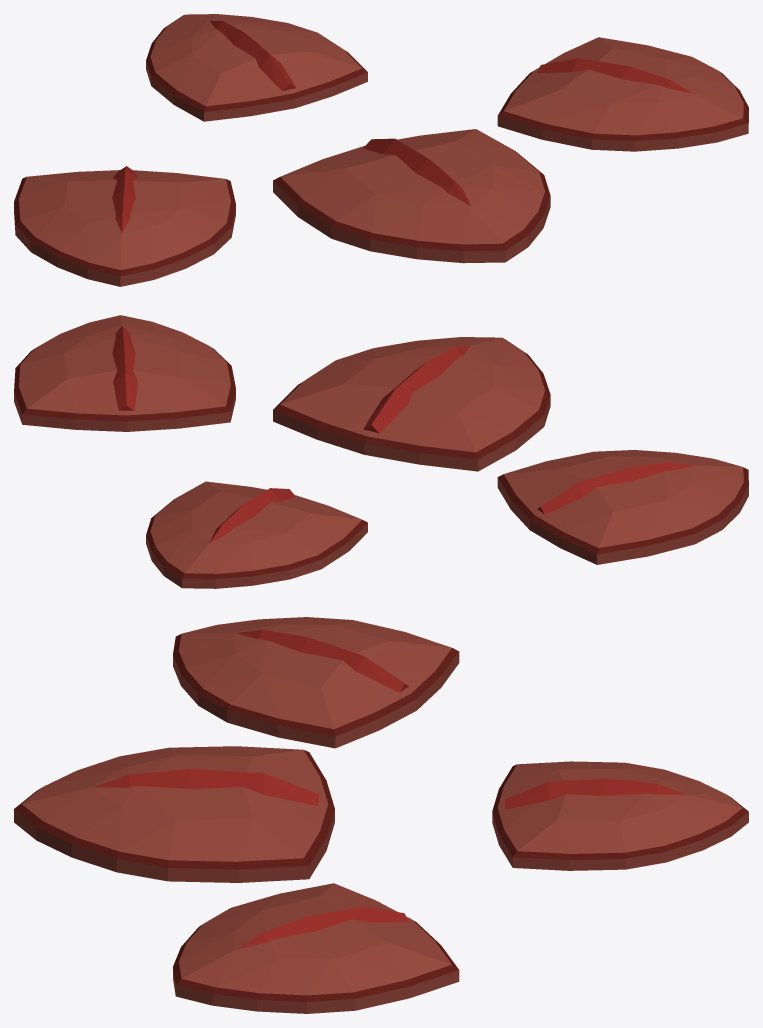
Rendered from shed-dragon-scale-d9aeae.glb.
The picture shows the model from 3 angles, top to bottom: view 1: azimuth 30°, elevation 25°; view 2: azimuth 150°, elevation 25°; view 3: azimuth 270°, elevation 25°; orthographic projection. The views are drawn at different scales.
Parts seen in each view (by area): view 1: scale; view 2: scale; view 3: scale.
Boxes of the visible parts, left/top/right/bottom form: scale: left=14, top=14, right=748, bottom=286; scale: left=14, top=315, right=748, bottom=588; scale: left=14, top=617, right=748, bottom=1013.
Bounding box in the file's own units: 1.34 × 0.0876 × 1.09.
